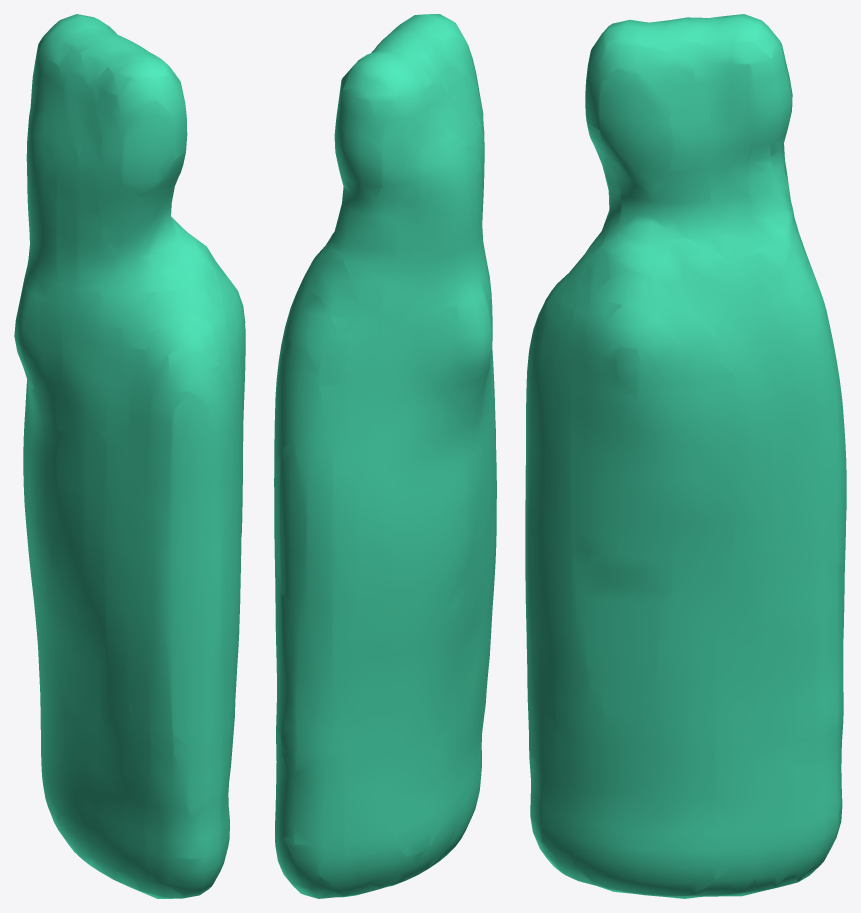
3 views of the same model, side by side, from view 1: azimuth 30°, elevation 25°; view 2: azimuth 150°, elevation 25°; view 3: azimuth 270°, elevation 25° (orthographic). The views are drawn at different scales.
Parts seen in each view (by area): view 1: Liquid_Domain; view 2: Liquid_Domain; view 3: Liquid_Domain.
Boxes of the visible parts, x1,y1,x2,y2 form: Liquid_Domain: [14, 14, 245, 898]; Liquid_Domain: [274, 14, 496, 898]; Liquid_Domain: [525, 14, 846, 898].
Bounding box in the file's own units: 1.73 × 7.15 × 2.45.
